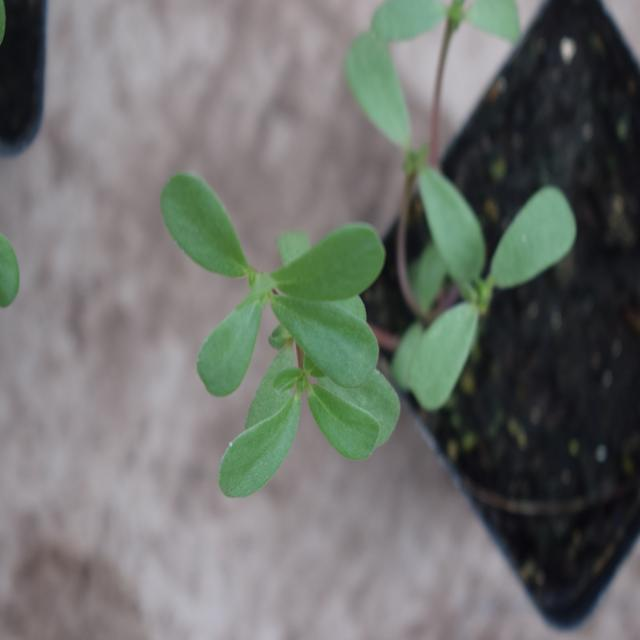purslane: (150, 174, 420, 490)
